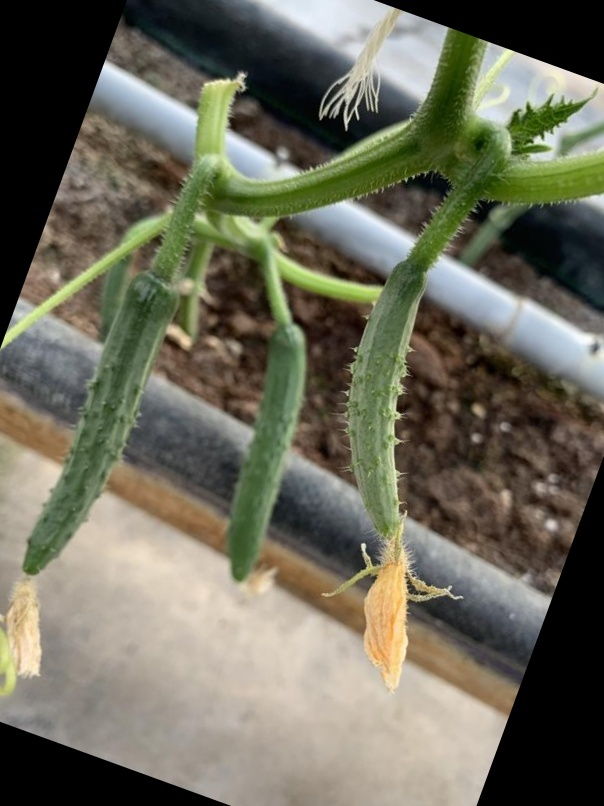bear: (299, 255, 456, 684)
growth: (22, 267, 186, 573), (227, 325, 314, 592)
